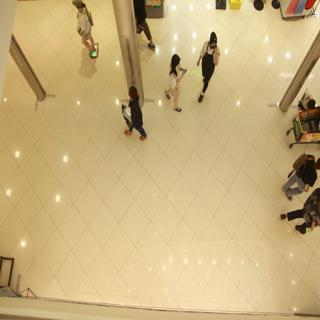person: (62, 1, 113, 73), (110, 74, 155, 146), (197, 29, 225, 102), (160, 51, 190, 114)
